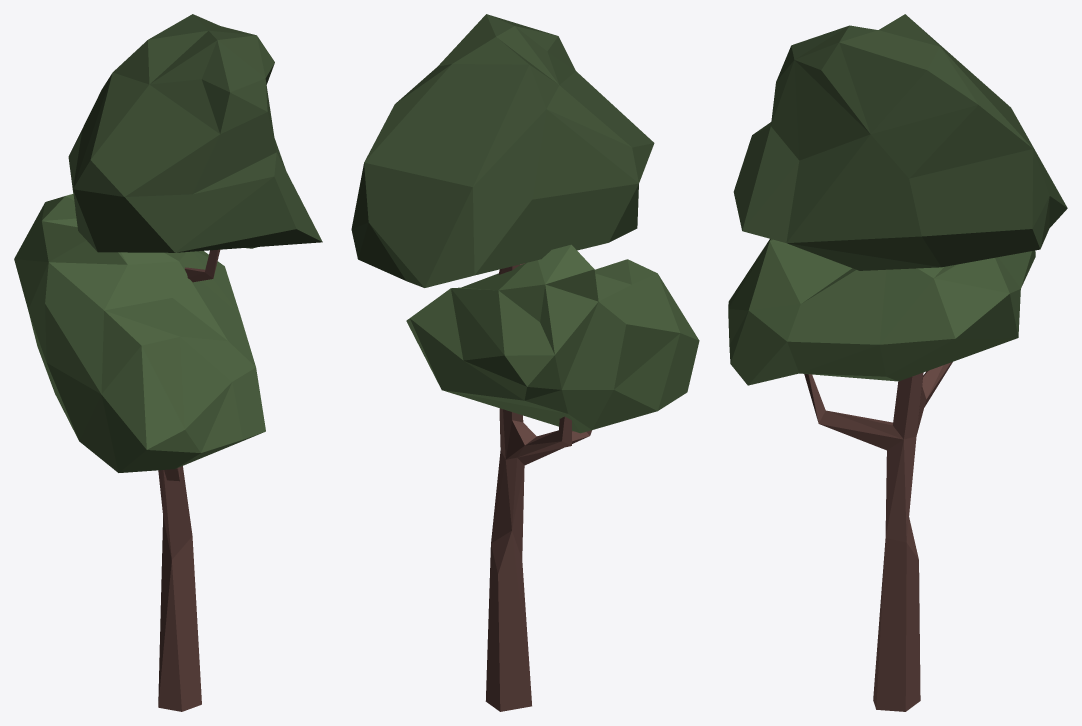
The model's file is tree-common-3.gltf.
3 renders of one model, left to right at view 1: azimuth 30°, elevation 25°; view 2: azimuth 150°, elevation 25°; view 3: azimuth 270°, elevation 25°, orthographic. The views are drawn at different scales.
Parts seen in each view (by area): view 1: CommonTree_3_Cube.001; view 2: CommonTree_3_Cube.001; view 3: CommonTree_3_Cube.001.
Boxes of the visible parts, x1=… form: CommonTree_3_Cube.001: x1=14, y1=14, x2=322, y2=711; CommonTree_3_Cube.001: x1=351, y1=14, x2=699, y2=711; CommonTree_3_Cube.001: x1=728, y1=14, x2=1067, y2=711.
Size of the model in its own units: 0.0124 by 0.034 by 0.0152.
